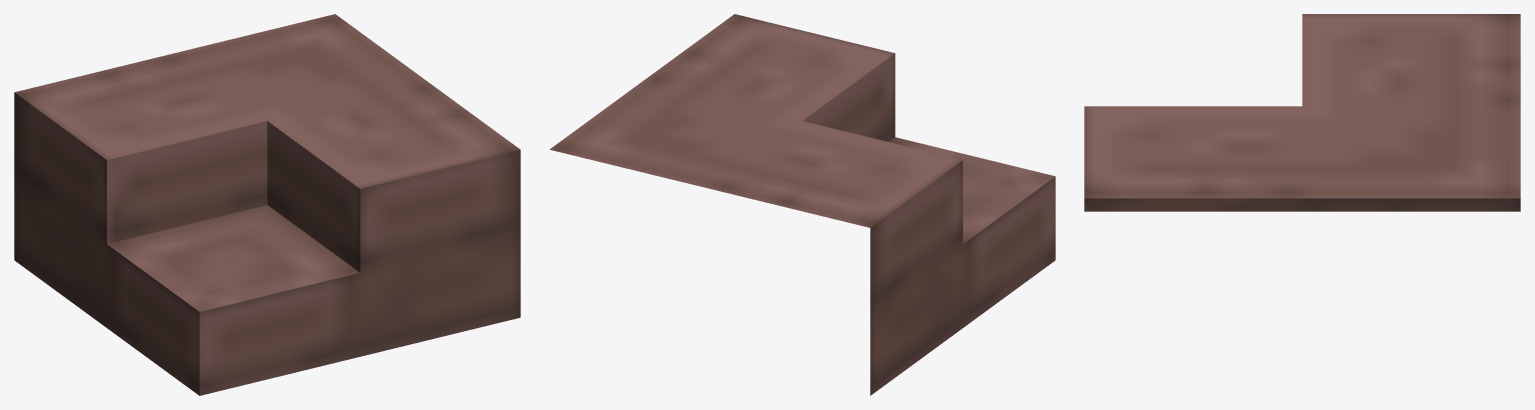
The model's file is stair_corner_concave_red.fbx.
3 renders of one model, left to right at view 1: azimuth 30°, elevation 25°; view 2: azimuth 150°, elevation 25°; view 3: azimuth 270°, elevation 25°, orthographic. The views are drawn at different scales.
Parts seen in each view (by area): view 1: stair_corner_concave_red; view 2: stair_corner_concave_red; view 3: stair_corner_concave_red.
Part boxes in pixels (x1=…): stair_corner_concave_red: x1=14, y1=14, x2=520, y2=395; stair_corner_concave_red: x1=550, y1=14, x2=1055, y2=395; stair_corner_concave_red: x1=1084, y1=14, x2=1520, y2=211.
Size of the model in its own units: 16 by 8 by 16.
